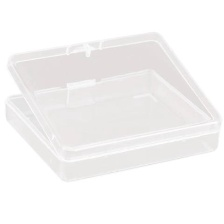plastic_box: (0, 25, 224, 188)
